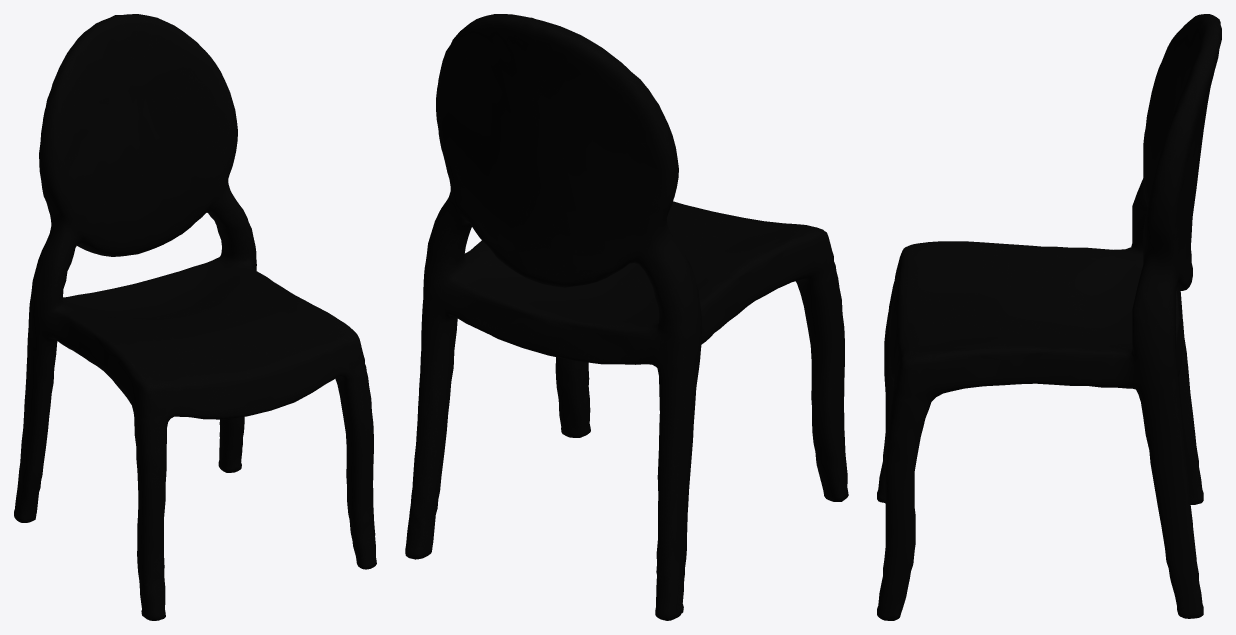
The model's file is GHOST_Resin_Chair_Bl_0403042319_texture.glb.
3 views of the same model, side by side, from view 1: azimuth 30°, elevation 25°; view 2: azimuth 150°, elevation 25°; view 3: azimuth 270°, elevation 25° (orthographic). The views are drawn at different scales.
Visible parts, largest first — view 1: Mesh_0; view 2: Mesh_0; view 3: Mesh_0.
Part boxes in pixels (x1,y1,x2,y2): Mesh_0: [14, 14, 376, 620]; Mesh_0: [405, 14, 848, 620]; Mesh_0: [877, 14, 1221, 620].
Bounding box in the file's own units: 0.4156 × 0.8128 × 0.4757.
Materials: 1 (1 with a texture image).
